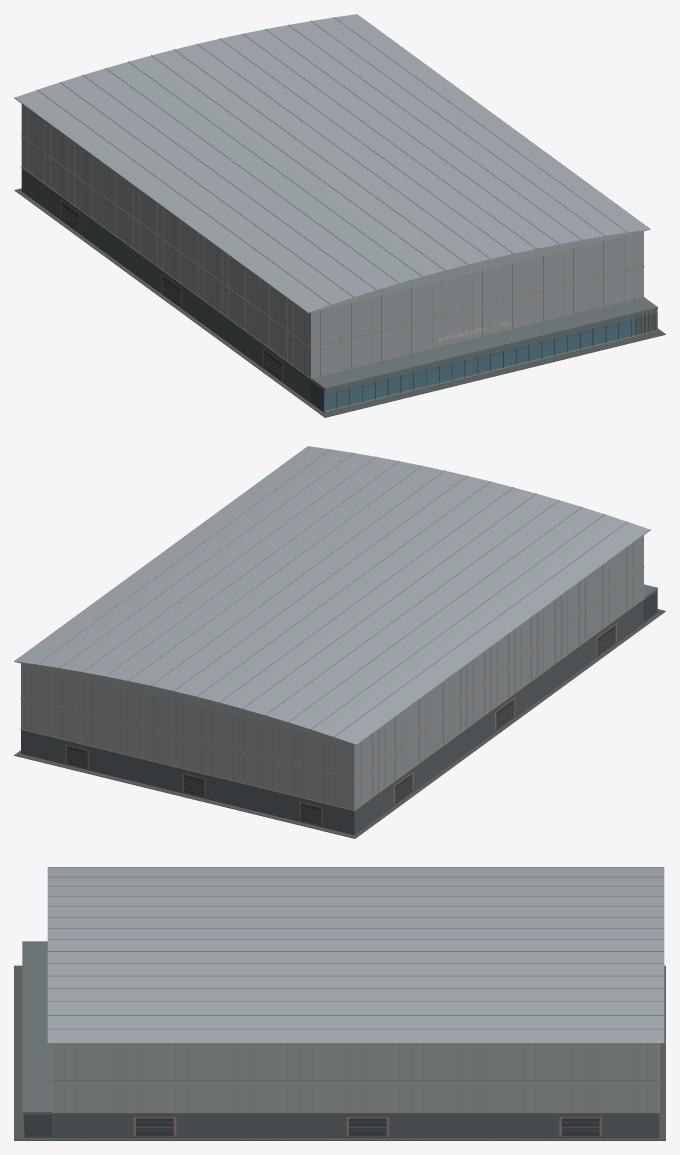
Rendered from shell.glb.
3 views of the same model, one above another, from view 1: azimuth 30°, elevation 25°; view 2: azimuth 150°, elevation 25°; view 3: azimuth 270°, elevation 25° (orthographic). The views are drawn at different scales.
Parts seen in each view (by area): view 1: shell_roof_canopy_aluminium, shell_bowl_mass_cladding, shell_roof_canopy_seams, shell_bowl_mass_lobby, shell_bowl_mass_facade_base, shell_bowl_mass_facade_panels, shell_bowl_mass_suite_glass_concourse, shell_bowl_mass_plinth, shell_vomitories_recesses, shell_bowl_mass_concourse_frame; view 2: shell_roof_canopy_aluminium, shell_bowl_mass_cladding, shell_bowl_mass_facade_base, shell_roof_canopy_seams, shell_bowl_mass_facade_panels, shell_bowl_mass_plinth, shell_vomitories_recesses; view 3: shell_roof_canopy_aluminium, shell_bowl_mass_cladding, shell_bowl_mass_facade_base, shell_roof_canopy_seams, shell_bowl_mass_facade_panels, shell_bowl_mass_lobby, shell_bowl_mass_plinth, shell_vomitories_recesses, shell_bowl_mass_concourse_frame.
Part boxes in pixels (box(x1,y1,x2,y2)): shell_roof_canopy_aluminium: box(15, 14, 650, 313); shell_bowl_mass_cladding: box(21, 104, 643, 377); shell_roof_canopy_seams: box(14, 17, 627, 312); shell_bowl_mass_lobby: box(311, 297, 657, 413); shell_bowl_mass_facade_base: box(21, 168, 310, 402); shell_bowl_mass_facade_panels: box(21, 108, 656, 380); shell_bowl_mass_suite_glass_concourse: box(324, 313, 656, 410); shell_bowl_mass_plinth: box(14, 188, 665, 417); shell_vomitories_recesses: box(61, 202, 281, 379); shell_bowl_mass_concourse_frame: box(310, 313, 657, 411); shell_roof_canopy_aluminium: box(14, 446, 649, 745); shell_bowl_mass_cladding: box(21, 535, 643, 810); shell_bowl_mass_facade_base: box(21, 600, 643, 834); shell_roof_canopy_seams: box(36, 449, 650, 744); shell_bowl_mass_facade_panels: box(20, 544, 644, 825); shell_bowl_mass_plinth: box(14, 609, 665, 838); shell_vomitories_recesses: box(67, 625, 615, 824); shell_roof_canopy_aluminium: box(47, 868, 664, 1043); shell_bowl_mass_cladding: box(52, 1043, 659, 1112); shell_bowl_mass_facade_base: box(52, 1113, 659, 1138); shell_roof_canopy_seams: box(47, 867, 664, 1029); shell_bowl_mass_facade_panels: box(22, 1043, 659, 1136); shell_bowl_mass_lobby: box(22, 941, 51, 1138); shell_bowl_mass_plinth: box(14, 965, 665, 1140); shell_vomitories_recesses: box(136, 1118, 599, 1136); shell_bowl_mass_concourse_frame: box(24, 1114, 51, 1137).
Size of the model in its own units: 87.56 by 25.16 by 137.
